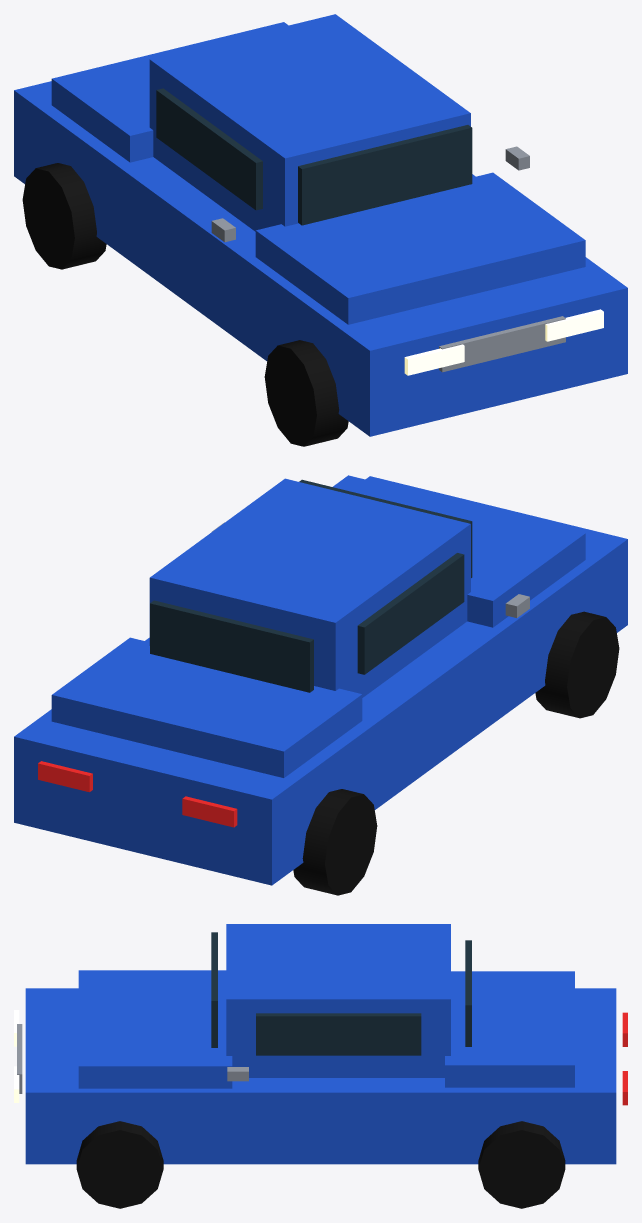
Rendered from passenger_car_near.glb.
3 renders of one model, top to bottom at view 1: azimuth 30°, elevation 25°; view 2: azimuth 150°, elevation 25°; view 3: azimuth 270°, elevation 25°, orthographic. The views are drawn at different scales.
Parts seen in each view (by area): view 1: passenger_car_near_lower_body, passenger_car_near_passenger_cabin, passenger_car_near_hood_slope_panel, passenger_car_near_windshield_glass, passenger_car_near_rear_deck_panel, passenger_car_near_left_rear_wheel, passenger_car_near_left_front_wheel, passenger_car_near_left_side_window_glass, passenger_car_near_front_grille, passenger_car_near_left_headlamp, passenger_car_near_right_headlamp; view 2: passenger_car_near_lower_body, passenger_car_near_passenger_cabin, passenger_car_near_rear_deck_panel, passenger_car_near_hood_slope_panel, passenger_car_near_rear_window_glass, passenger_car_near_left_front_wheel, passenger_car_near_left_rear_wheel, passenger_car_near_left_side_window_glass, passenger_car_near_left_tail_lamp, passenger_car_near_right_tail_lamp, passenger_car_near_windshield_glass; view 3: passenger_car_near_lower_body, passenger_car_near_passenger_cabin, passenger_car_near_hood_slope_panel, passenger_car_near_rear_deck_panel, passenger_car_near_right_side_window_glass, passenger_car_near_right_rear_wheel, passenger_car_near_right_front_wheel, passenger_car_near_windshield_glass, passenger_car_near_rear_window_glass.
Boxes of the visible parts, x1,y1,x2,y2 form: passenger_car_near_lower_body: (14,81,627,436); passenger_car_near_passenger_cabin: (149,14,470,231); passenger_car_near_hood_slope_panel: (255,172,585,324); passenger_car_near_windshield_glass: (298,125,472,225); passenger_car_near_rear_deck_panel: (51,22,288,162); passenger_car_near_left_rear_wheel: (22,163,106,269); passenger_car_near_left_front_wheel: (264,340,348,446); passenger_car_near_left_side_window_glass: (156,88,262,210); passenger_car_near_front_grille: (439,316,565,372); passenger_car_near_left_headlamp: (404,344,464,375); passenger_car_near_right_headlamp: (545,309,603,341); passenger_car_near_lower_body: (14,476,627,885); passenger_car_near_passenger_cabin: (149,478,470,697); passenger_car_near_rear_deck_panel: (51,637,362,777); passenger_car_near_hood_slope_panel: (333,475,585,627); passenger_car_near_rear_window_glass: (150,600,313,692); passenger_car_near_left_front_wheel: (535,611,619,718); passenger_car_near_left_rear_wheel: (293,789,377,895); passenger_car_near_left_side_window_glass: (357,553,464,674); passenger_car_near_left_tail_lamp: (182,796,237,827); passenger_car_near_right_tail_lamp: (38,761,92,792); passenger_car_near_windshield_glass: (299,479,472,577); passenger_car_near_lower_body: (25,988,616,1164); passenger_car_near_passenger_cabin: (226,924,450,1077); passenger_car_near_hood_slope_panel: (78,970,232,1088); passenger_car_near_rear_deck_panel: (445,971,574,1087); passenger_car_near_right_side_window_glass: (256,1013,421,1055); passenger_car_near_right_rear_wheel: (478,1121,565,1208); passenger_car_near_right_front_wheel: (76,1121,163,1208); passenger_car_near_windshield_glass: (211,932,217,1047); passenger_car_near_rear_window_glass: (465,940,471,1046).
Bounding box in the file's own units: 2.15 × 1.51 × 4.52.
